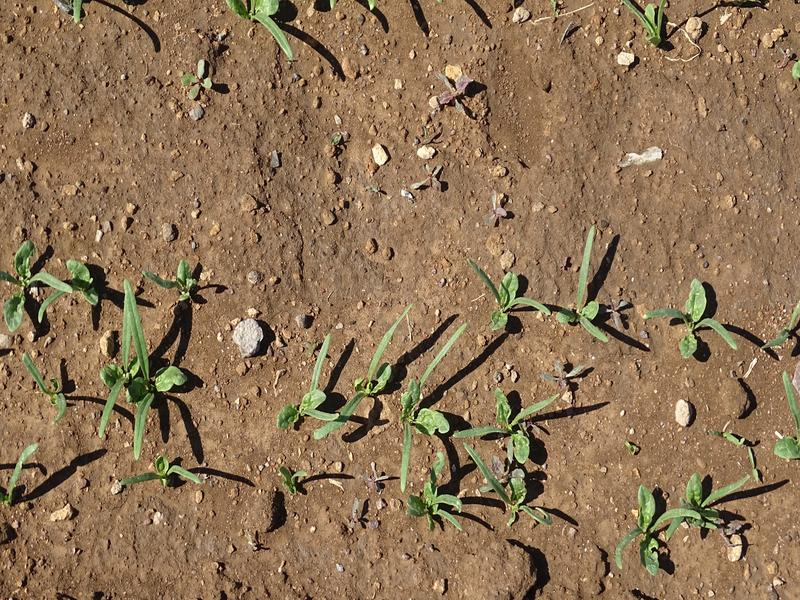Espinaca: (286, 319, 561, 529), (2, 239, 220, 496), (476, 232, 612, 344), (608, 458, 747, 566), (653, 277, 737, 357), (768, 301, 800, 455), (230, 1, 297, 65)
